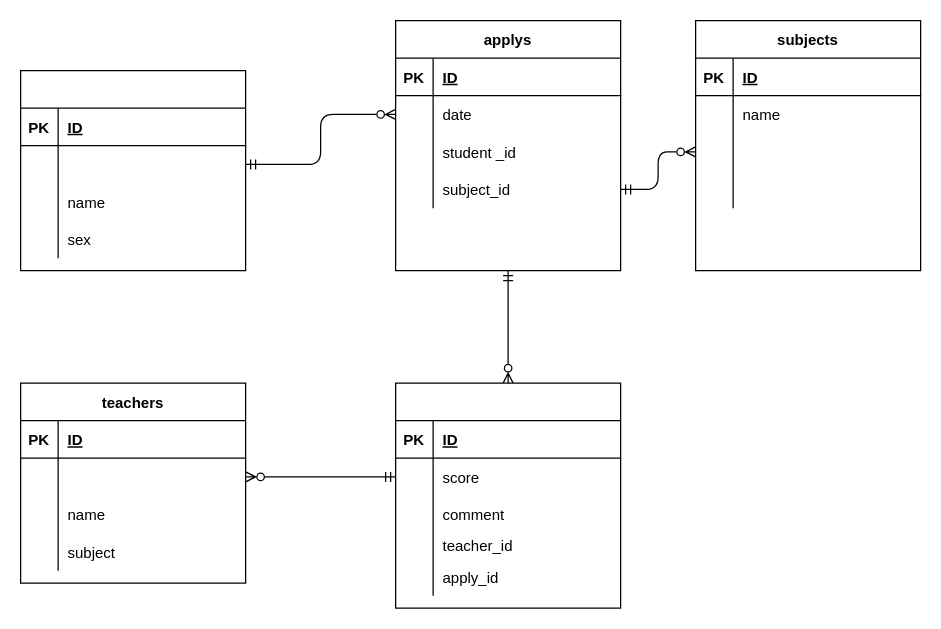
Image size: 941x629. Some labels were removed from this diagram. Here are the shapes that lost their labels. From the top down, the box of each, then its label:
(19, 69, 246, 271): students
(394, 382, 621, 608): test results
